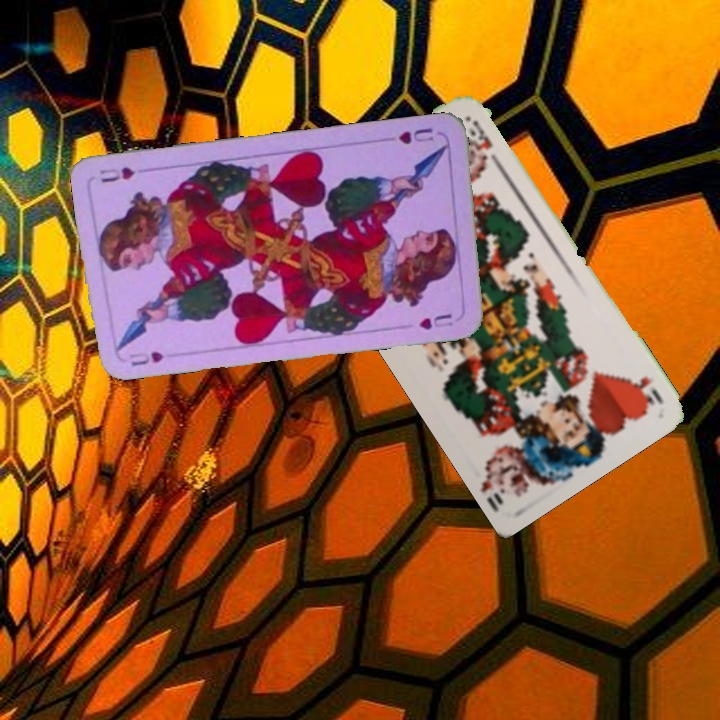HO: (630, 372, 666, 408)
HU: (394, 124, 437, 147), (125, 347, 166, 369)
